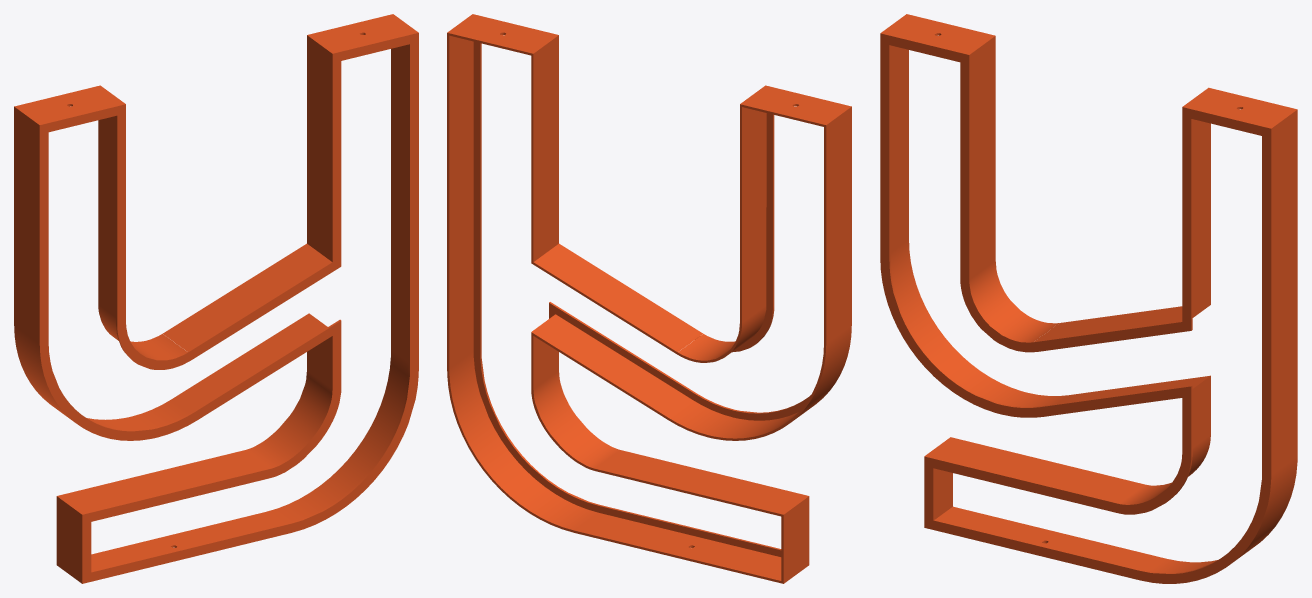
The model's file is front.glb.
The picture shows the model from 3 angles, left to right: view 1: azimuth 30°, elevation 25°; view 2: azimuth 150°, elevation 25°; view 3: azimuth 330°, elevation 25°; orthographic projection. The views are drawn at different scales.
Visible parts, largest first — view 1: front; view 2: front; view 3: front.
Part boxes in pixels (bbox=[...]): front: bbox=[14, 14, 418, 583]; front: bbox=[447, 14, 851, 583]; front: bbox=[880, 14, 1297, 583].
Bounding box in the file's own units: 0.1709 × 0.202 × 0.02.
